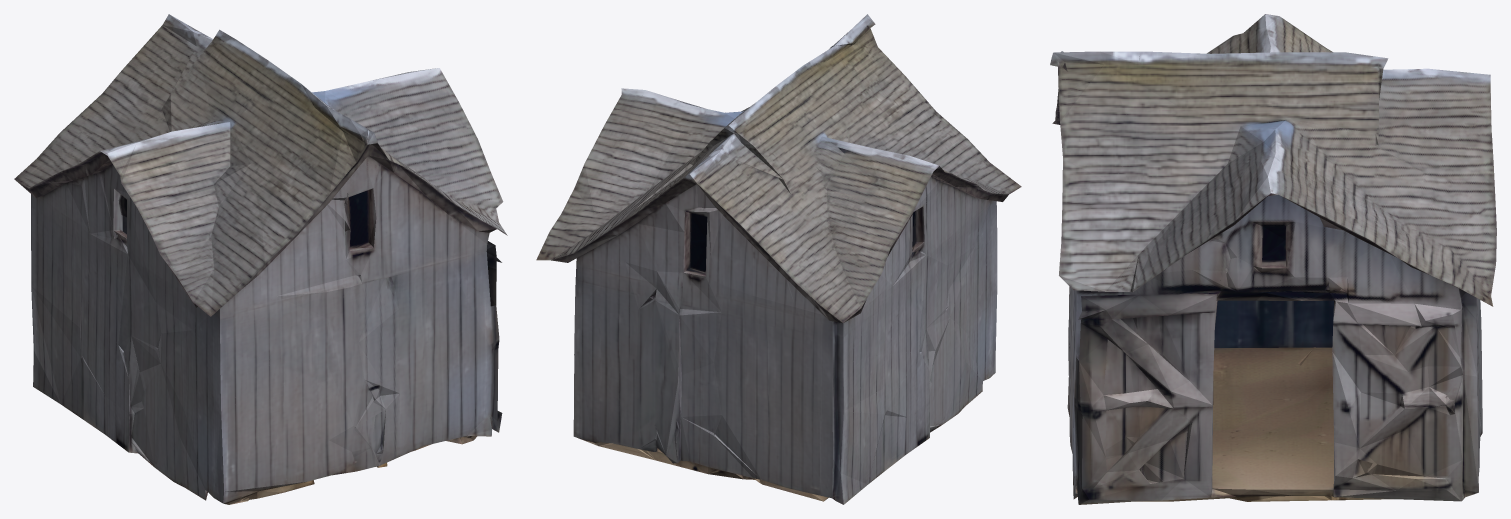
File: barn.obj
3 views of the same model, side by side, from view 1: azimuth 30°, elevation 25°; view 2: azimuth 150°, elevation 25°; view 3: azimuth 270°, elevation 25° (orthographic). The views are drawn at different scales.
Visible parts, largest first — view 1: barn; view 2: barn; view 3: barn.
Boxes of the visible parts, bbox=[...] form: barn: bbox=[14, 14, 507, 504]; barn: bbox=[536, 14, 1021, 504]; barn: bbox=[1050, 14, 1496, 504].
Size of the model in its own units: 9.74 by 9.62 by 10.
Materials: 1 (1 with a texture image).
